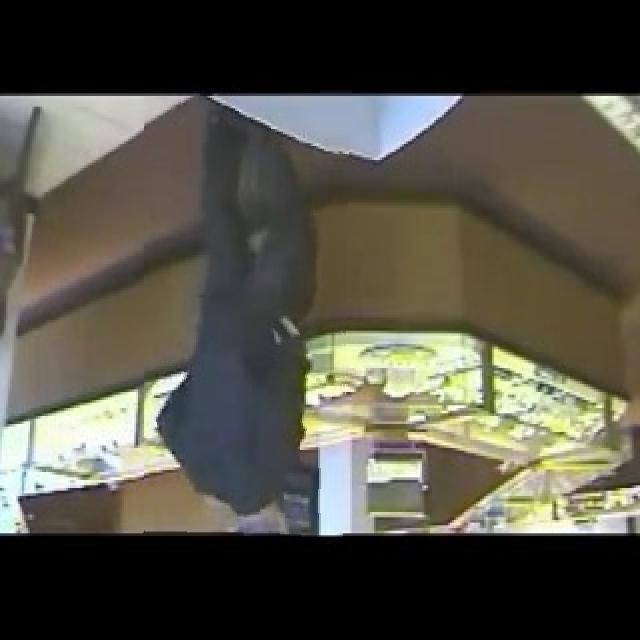normal: (144, 96, 348, 536)
